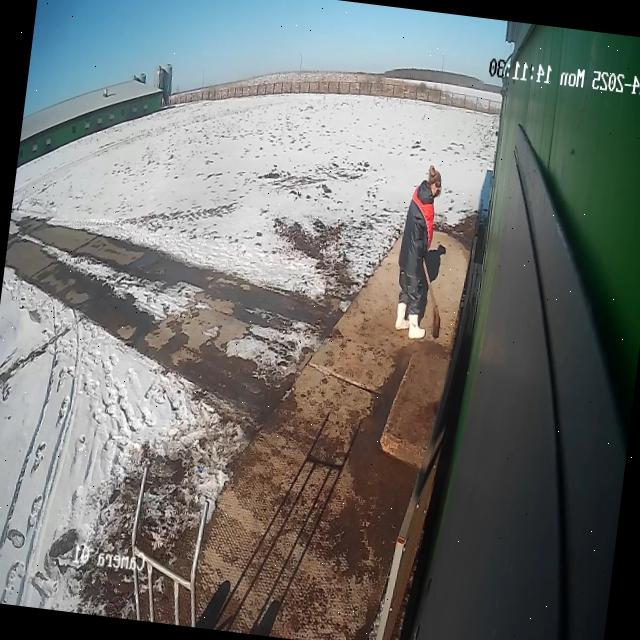Red uniform: (386, 160, 449, 344)
